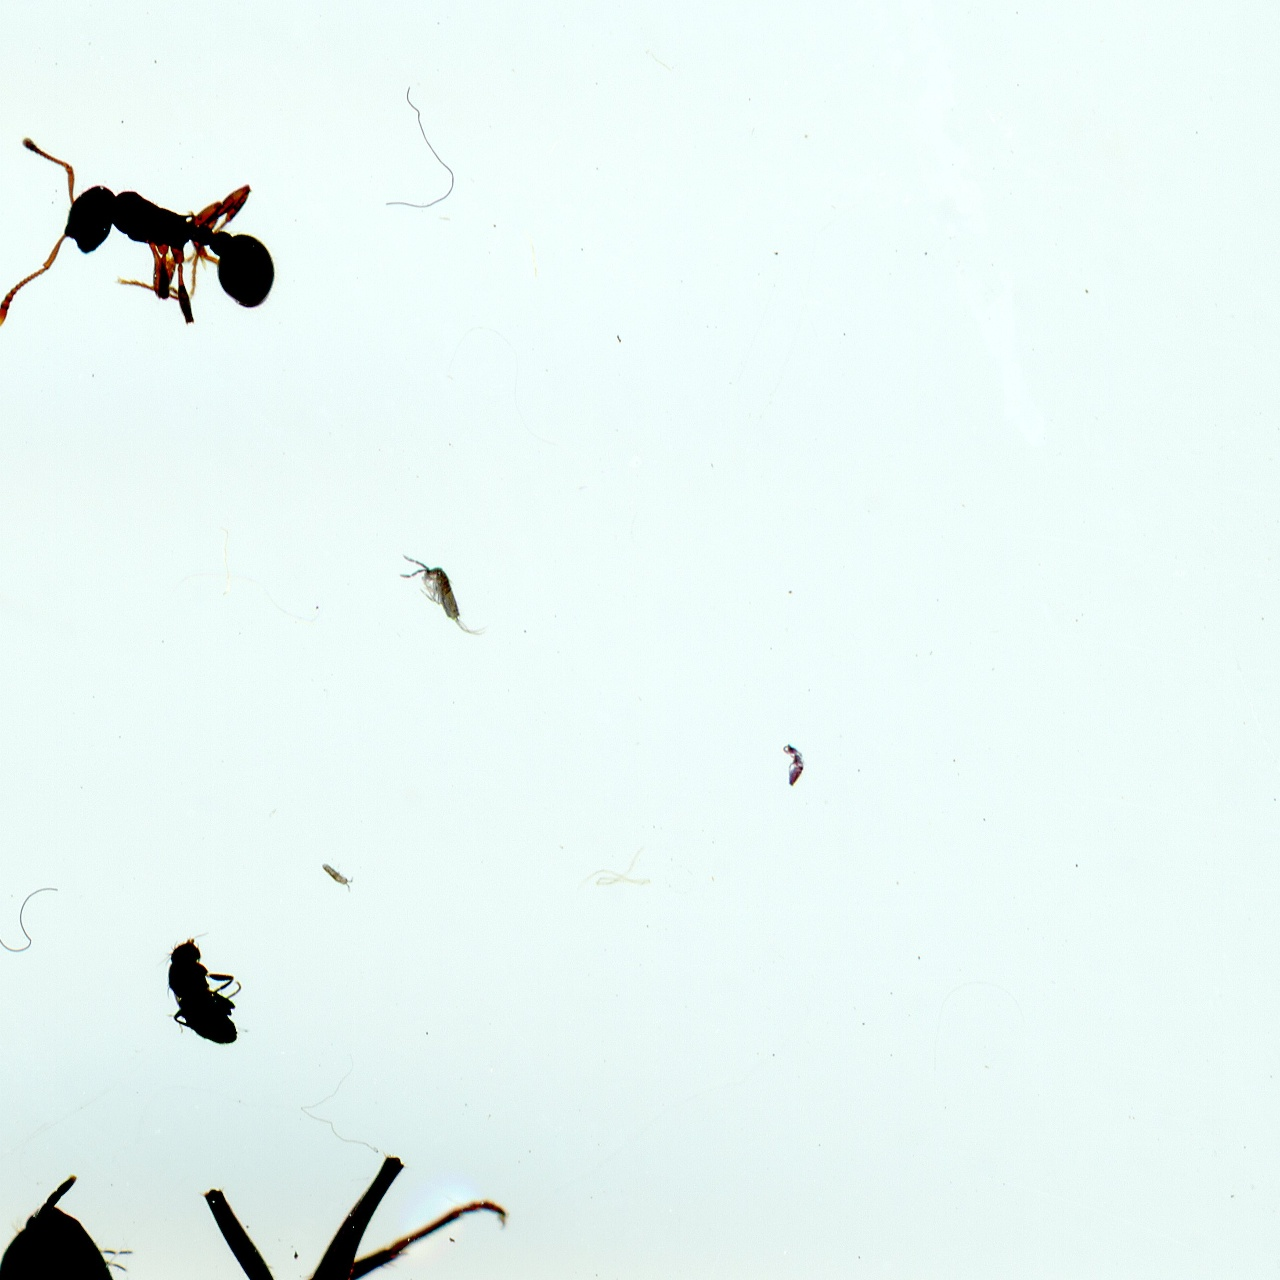arthropod: (0, 1132, 622, 1280), (0, 124, 301, 380), (139, 915, 264, 1069), (396, 547, 496, 647), (313, 856, 365, 898), (778, 740, 808, 792)
